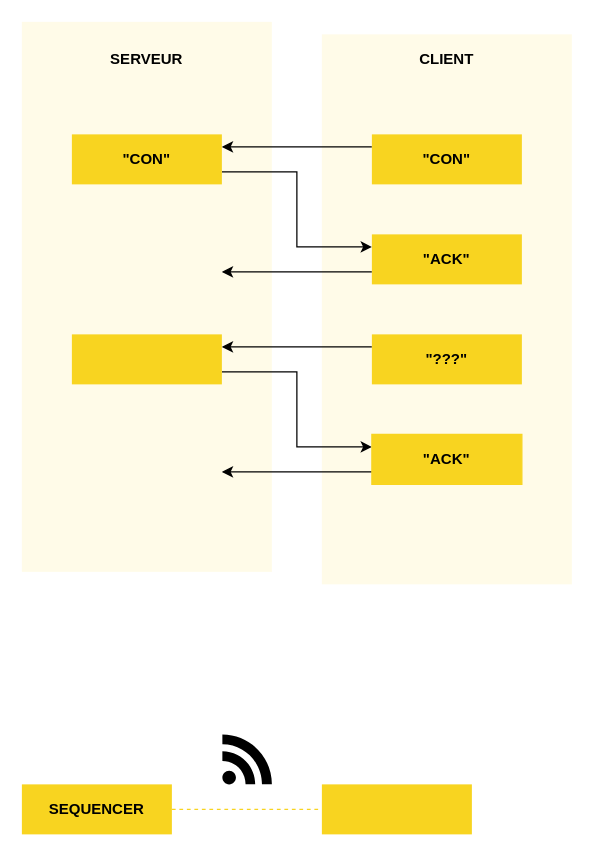
Some shapes in this 593 by 855 pixel diagram are drawn without their labels. The shapes that lost their labels are listed below. From the top down, each one's centre as x and y in pixels, then its label:
At (x=146, y=359): "Trame".
At (x=396, y=809): "ESP32".
